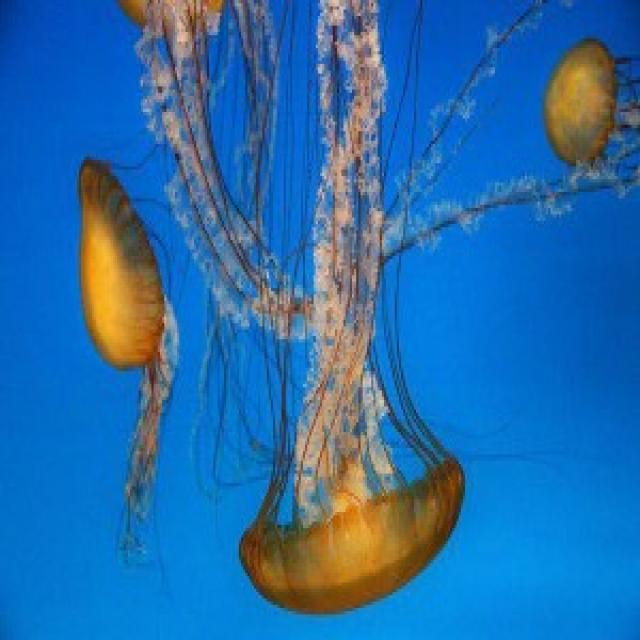Jellyfish: (234, 295, 473, 621), (72, 148, 182, 580), (114, 0, 257, 216), (538, 19, 640, 190)
